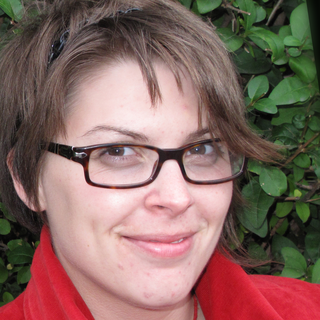eye: (185, 138, 227, 163), (98, 142, 144, 164)
